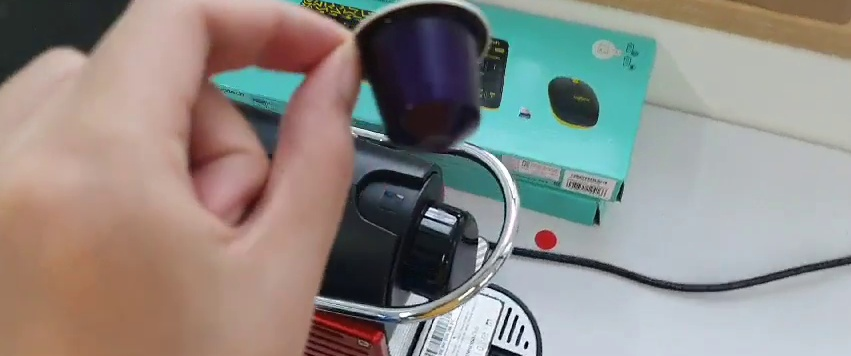capsule_2: (345, 2, 492, 150)
